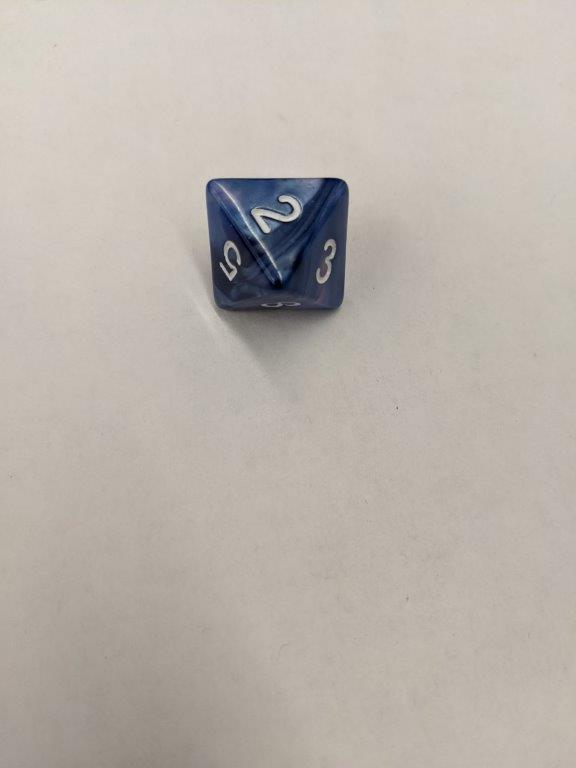d8-2: (206, 177, 348, 311)
